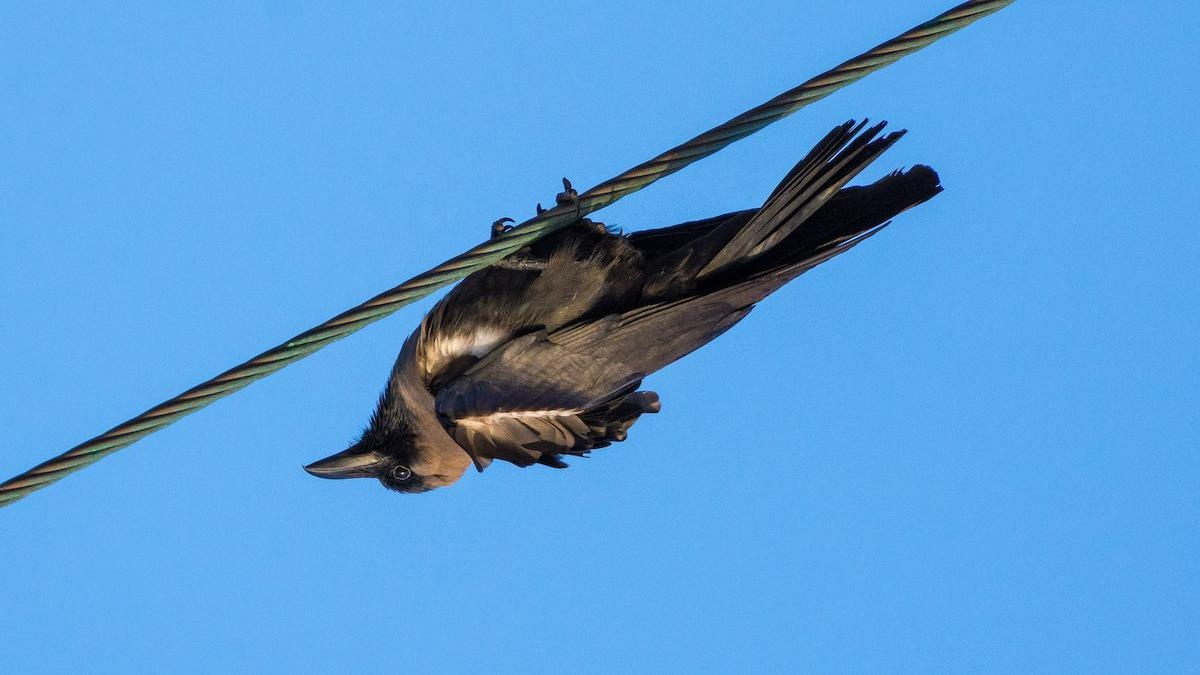crow: (303, 122, 973, 502)
